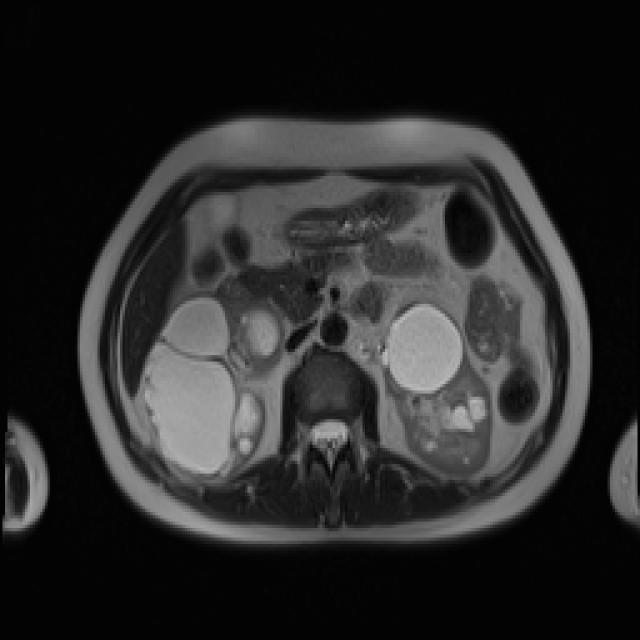sag: (142, 291, 285, 482)
sol: (379, 299, 493, 478)
